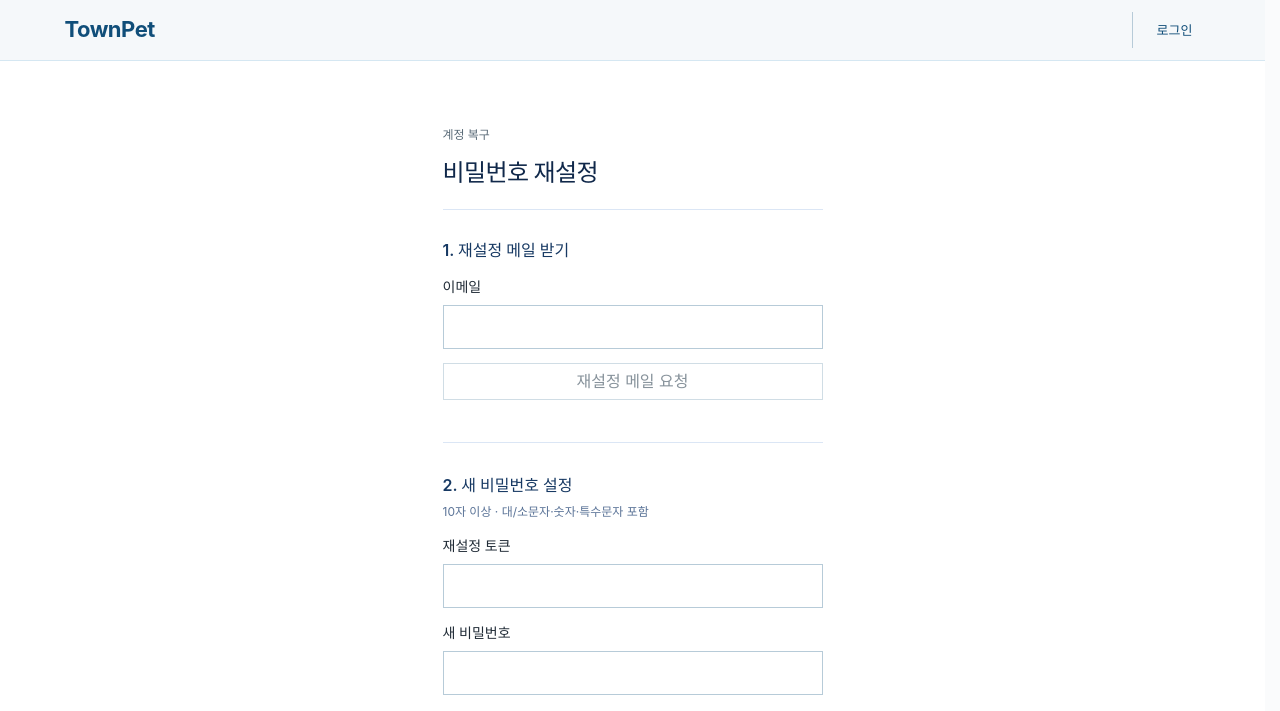
Test: Credentials journeys › keeps the password reset request response account-neutral
Type "unknown@example.com" into the field labelled "이메일" at [632, 327], box [442,305,822,349]
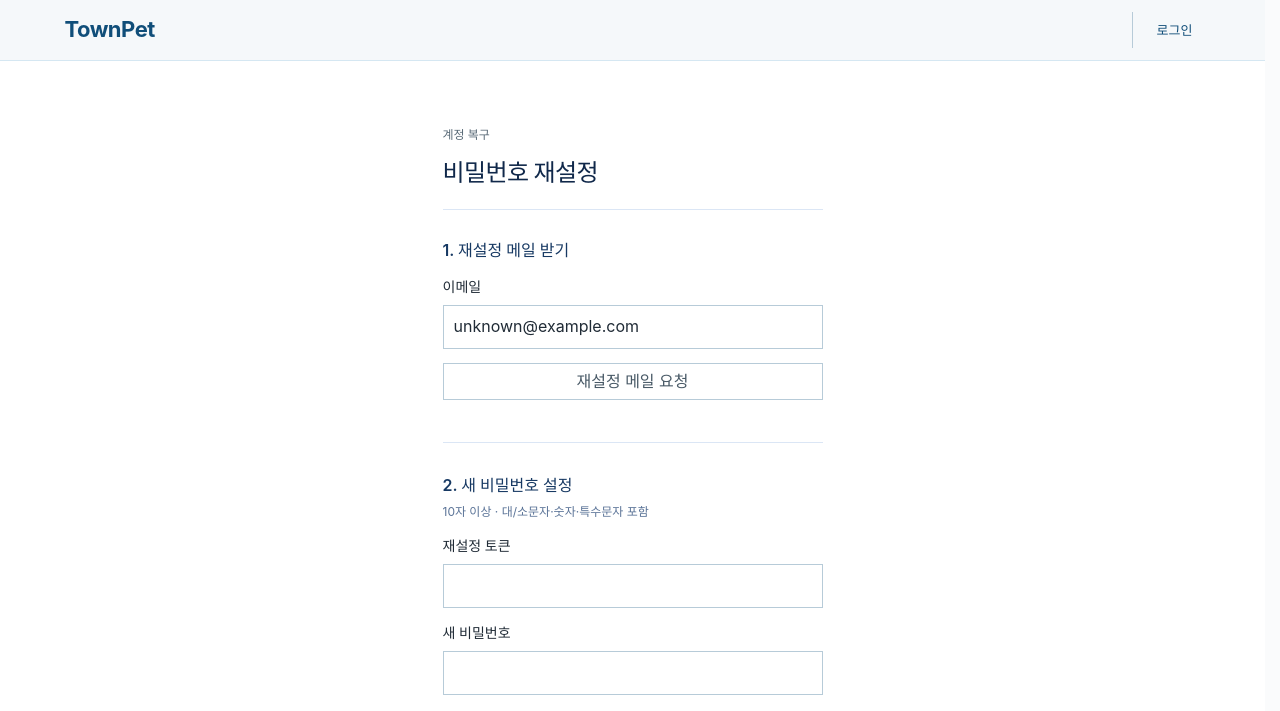
Click the button "재설정 메일 요청" at [632, 381], box [442,363,822,400]
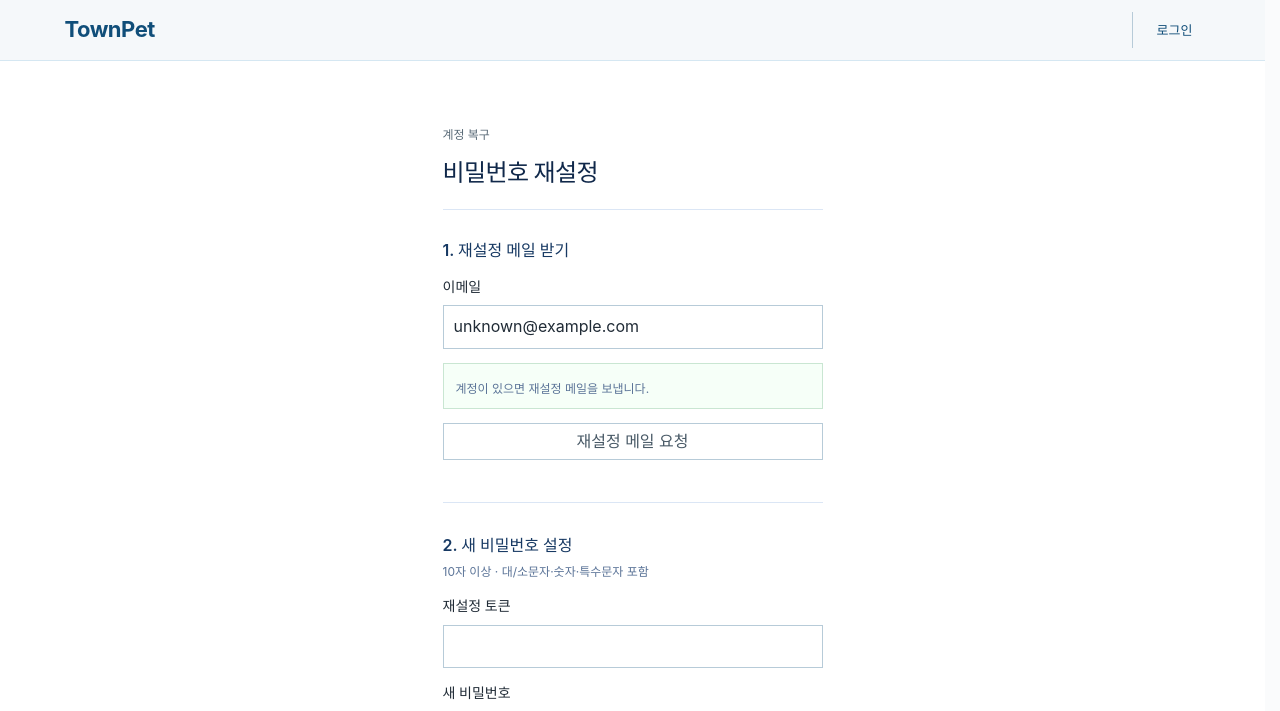
Expected: the text "계정이 있으면 재설정 메일을 보냅니다." is shown, [456,381,649,396]
